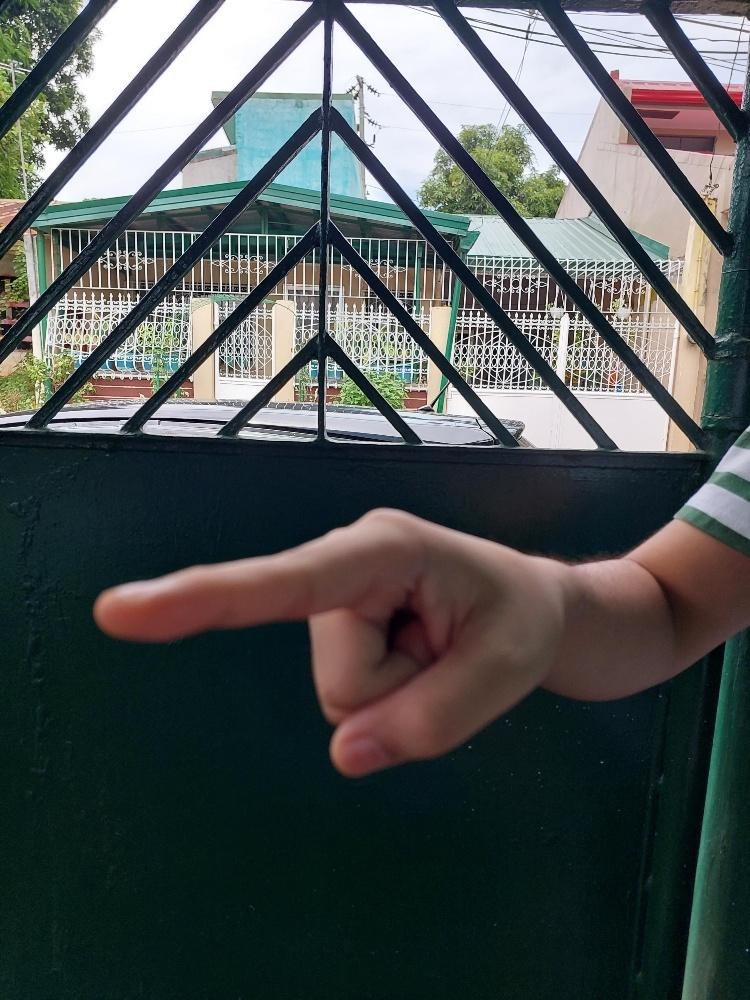z: (90, 503, 566, 777)
